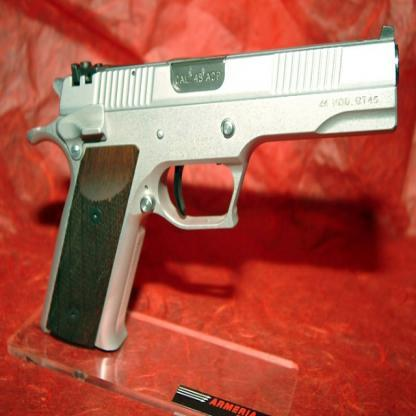gun: (33, 31, 399, 364)
